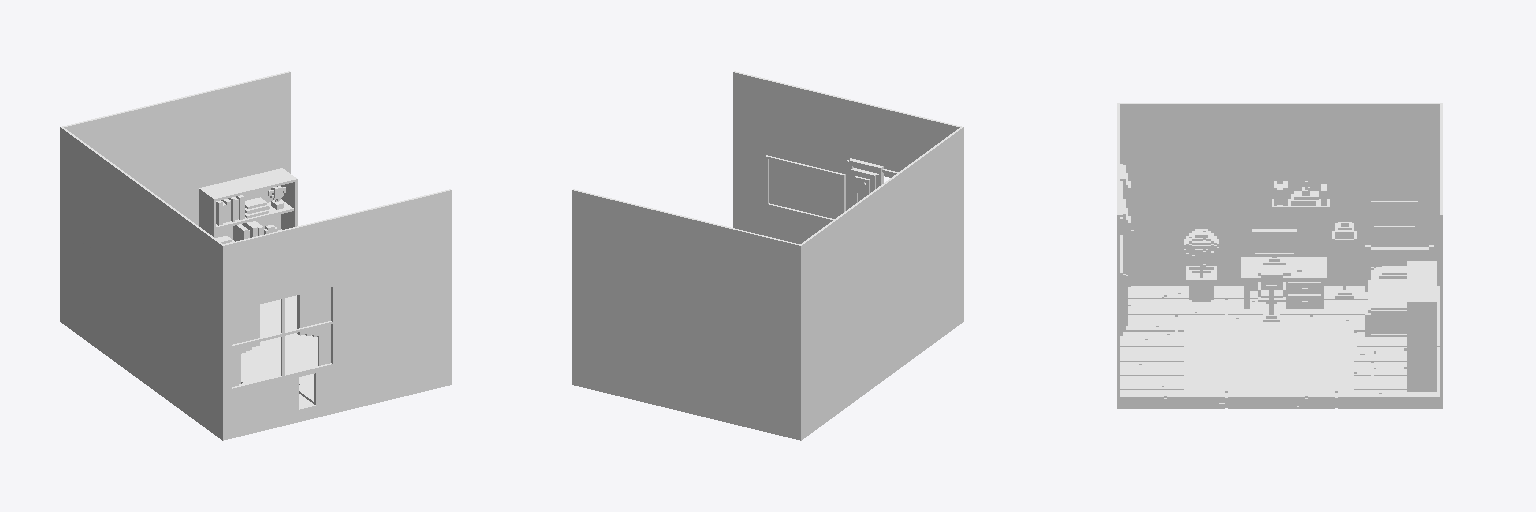
Rendered from Quarto_final.obj.
3 renders of one model, left to right at view 1: azimuth 30°, elevation 25°; view 2: azimuth 150°, elevation 25°; view 3: azimuth 270°, elevation 25°, orthographic.
Bounding box in the file's own units: 96 × 78 × 118.